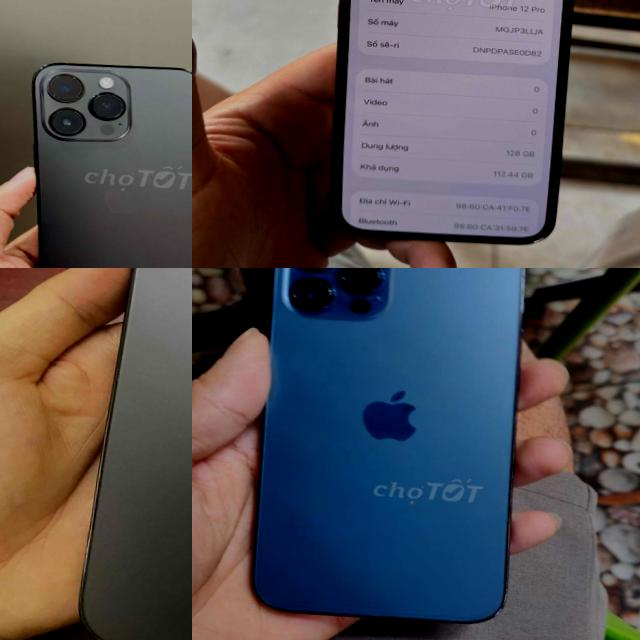gen_12_13: (244, 268, 530, 632), (318, 0, 585, 262)
gen_14: (68, 268, 192, 640), (18, 55, 192, 268)
